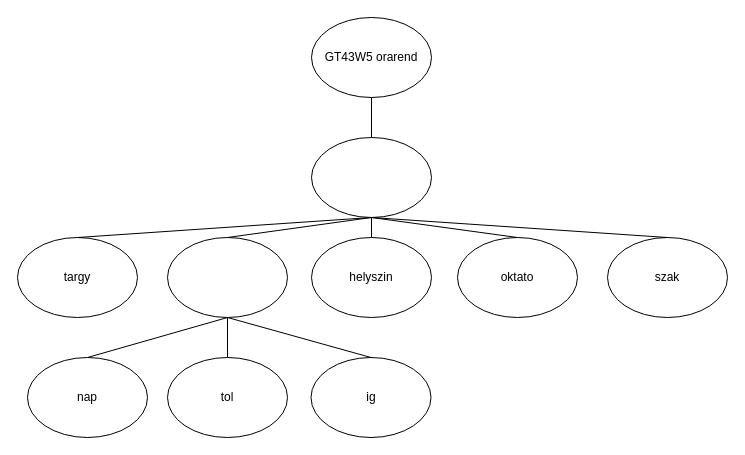
Some shapes in this 745 by 455 pixel diagram are drawn without their labels. The centre of each missing label's shape, as x and y in pixels:
idopont: (227,277)
ora: (371,177)
